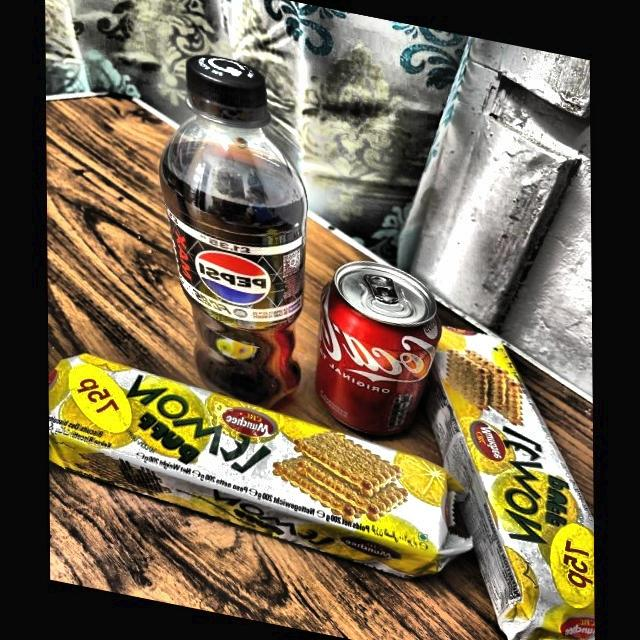coke-can: (316, 252, 433, 435)
lemon puff: (39, 347, 467, 595), (425, 323, 604, 640)
pepsi-bottle: (163, 53, 300, 397)
